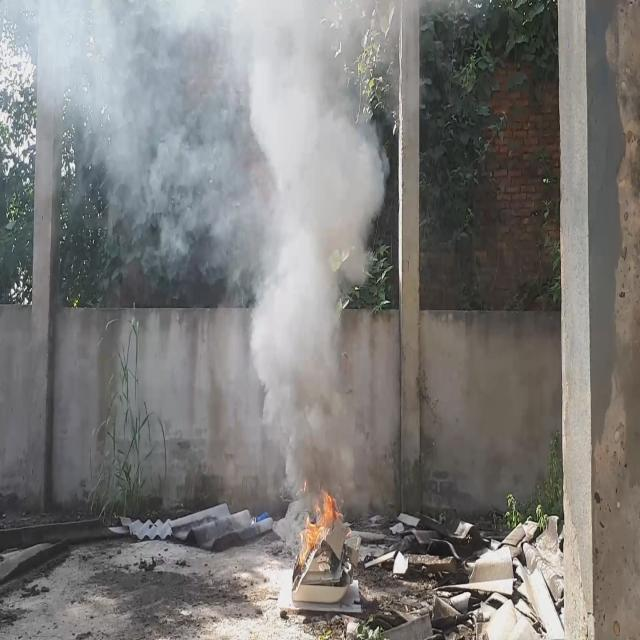Fire: (297, 489, 340, 569)
Smoke: (0, 0, 390, 532)
